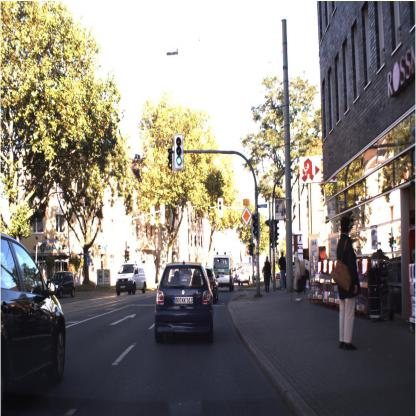other: (240, 206, 253, 228)
